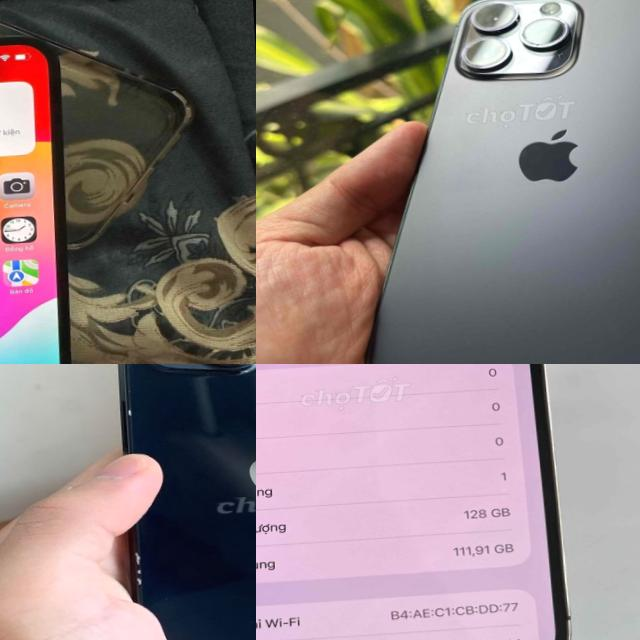physical_damage: (120, 540, 168, 592), (115, 402, 152, 427)
